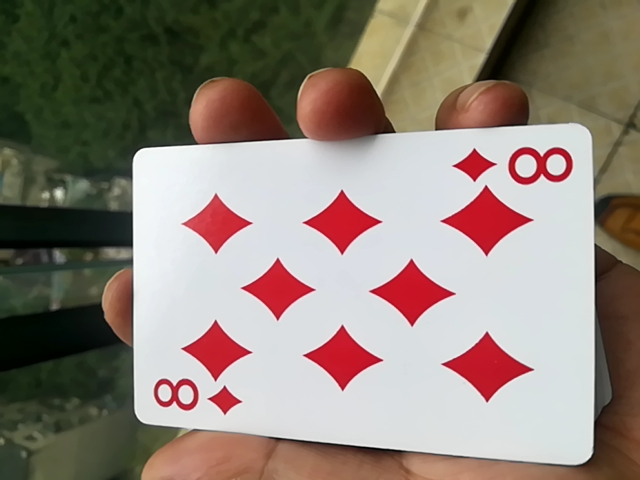fk 8: (119, 131, 588, 470)
